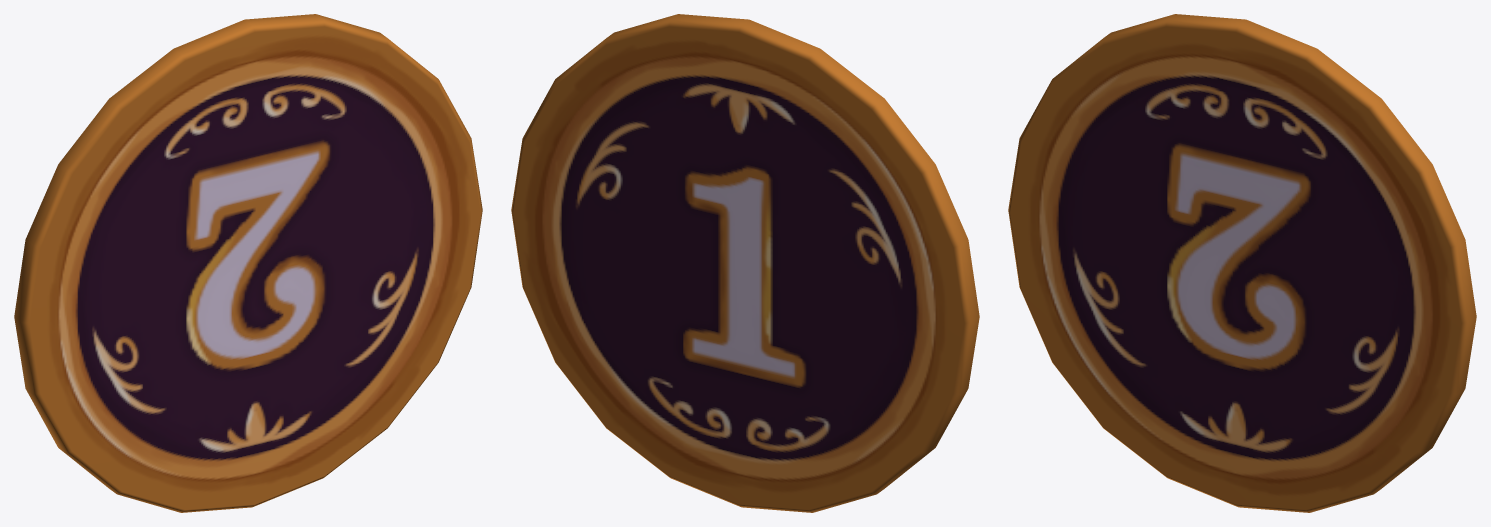
The model's file is d2-urikV2.glb.
The picture shows the model from 3 angles, left to right: view 1: azimuth 30°, elevation 25°; view 2: azimuth 150°, elevation 25°; view 3: azimuth 330°, elevation 25°; orthographic projection.
Visible parts, largest first — view 1: Mesh_0; view 2: Mesh_0; view 3: Mesh_0.
Part boxes in pixels (x1,y1,x2,y2): Mesh_0: [14, 14, 482, 512]; Mesh_0: [511, 14, 979, 512]; Mesh_0: [1008, 14, 1476, 512].
Size of the model in its own units: 182 by 182 by 9.11.
1 material, 1 textured.
